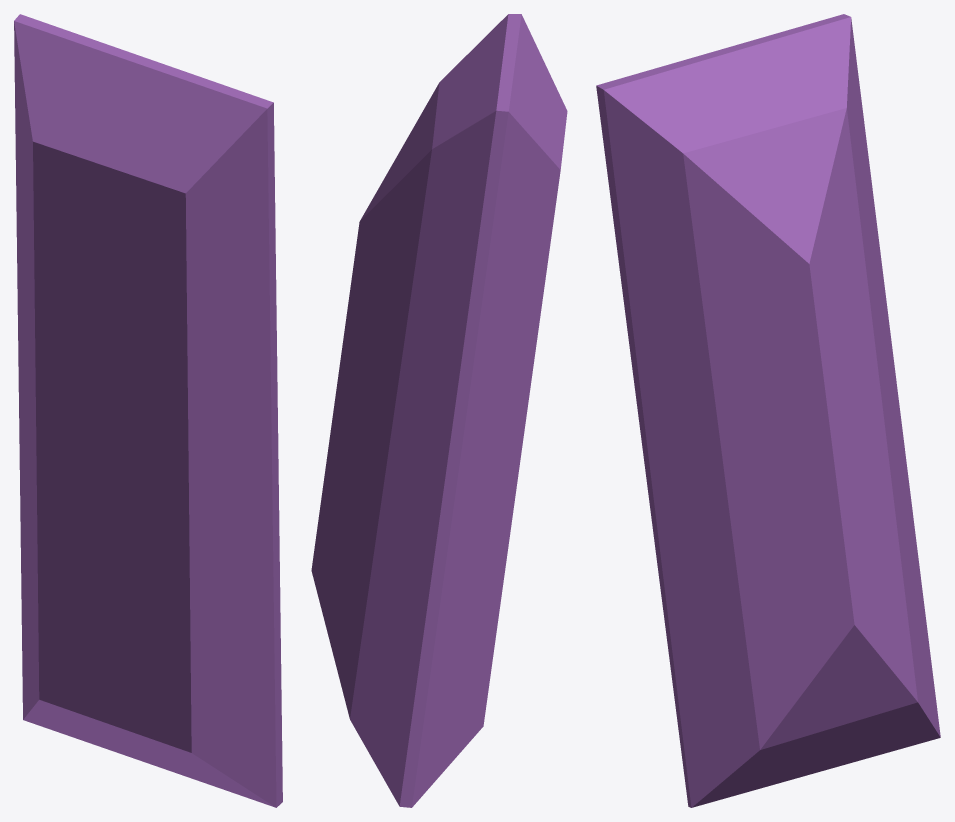
File: TL3_Spacers_BaguetteStone.001 3.glb
The picture shows the model from 3 angles, left to right: view 1: azimuth 30°, elevation 25°; view 2: azimuth 150°, elevation 25°; view 3: azimuth 270°, elevation 25°; orthographic projection. The views are drawn at different scales.
Parts seen in each view (by area): view 1: TL3_Spacers_BaguetteStone.001; view 2: TL3_Spacers_BaguetteStone.001; view 3: TL3_Spacers_BaguetteStone.001.
Part boxes in pixels (x1,y1,x2,y2): TL3_Spacers_BaguetteStone.001: (14,14,282,807); TL3_Spacers_BaguetteStone.001: (311,14,567,807); TL3_Spacers_BaguetteStone.001: (596,14,940,807).
Bounding box in the file's own units: 0.1454 × 0.4615 × 0.202.
